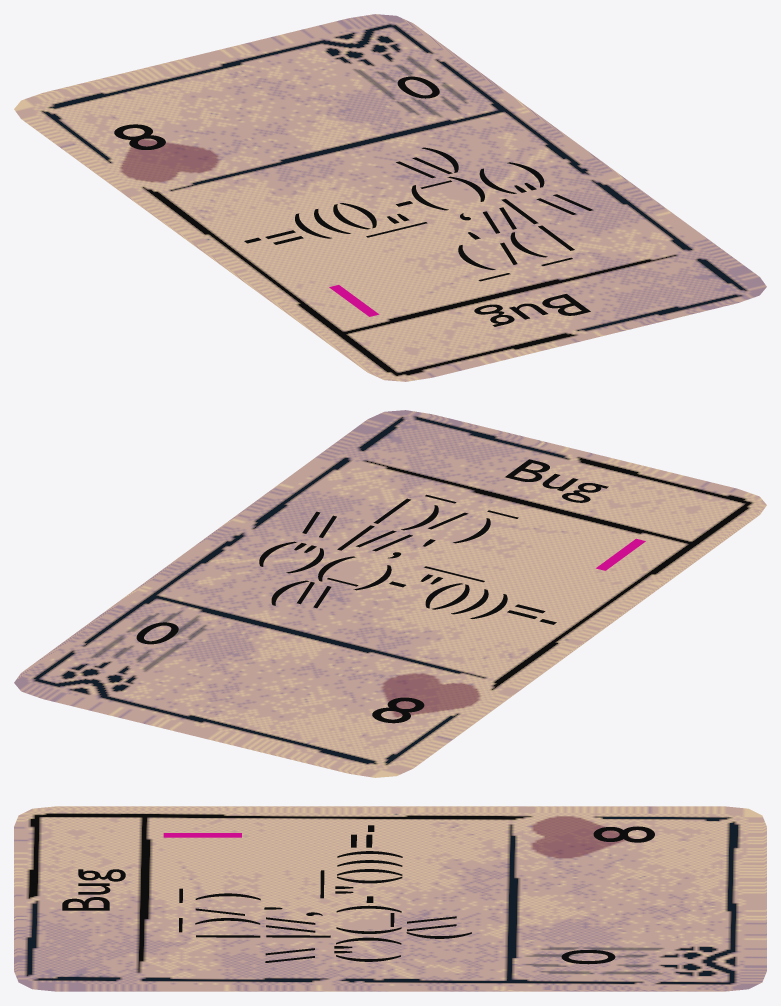
Rendered from Bug.glb.
3 renders of one model, top to bottom at view 1: azimuth 30°, elevation 25°; view 2: azimuth 150°, elevation 25°; view 3: azimuth 270°, elevation 25°, orthographic. The views are drawn at different scales.
Visible parts, largest first — view 1: Bug; view 2: Bug; view 3: Bug.
Boxes of the visible parts, left/top/right/bottom form: Bug: left=14, top=14, right=766, bottom=381; Bug: left=14, top=410, right=766, bottom=777; Bug: left=14, top=806, right=766, bottom=991.
Size of what is drawn, in the model's own units: 44.93 by 0.4028 by 77.22.
5 materials, 1 textured.
